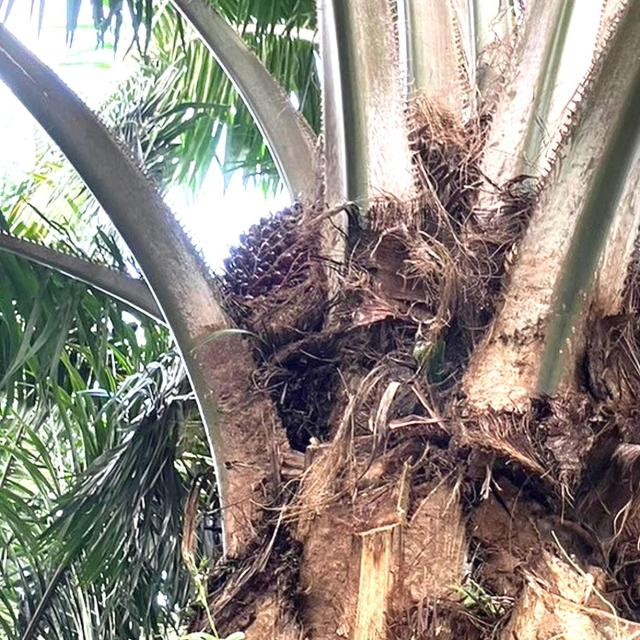ripe: (218, 206, 333, 385)
